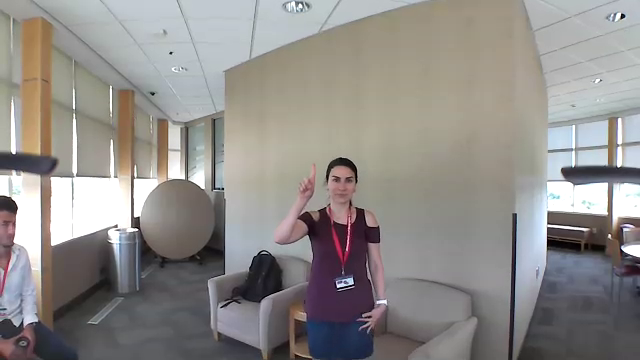up: (297, 161, 319, 205)
